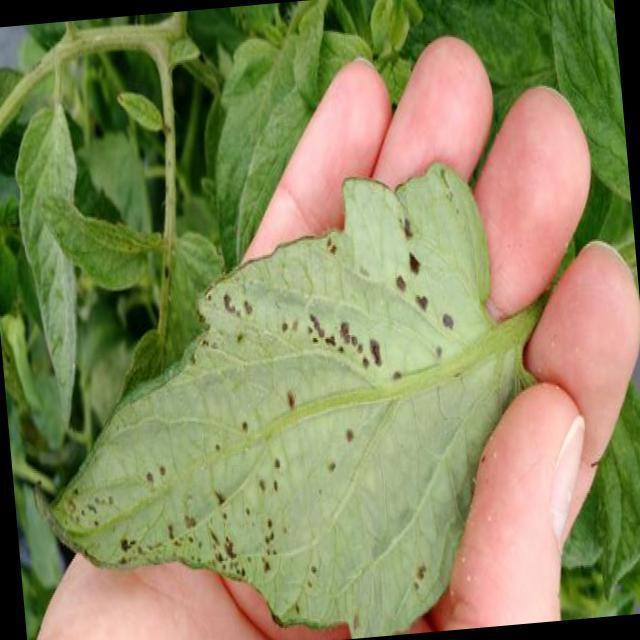Bacterial Spot: (51, 404, 438, 622), (198, 205, 479, 418)
Healthy Leaf: (4, 89, 98, 432)
